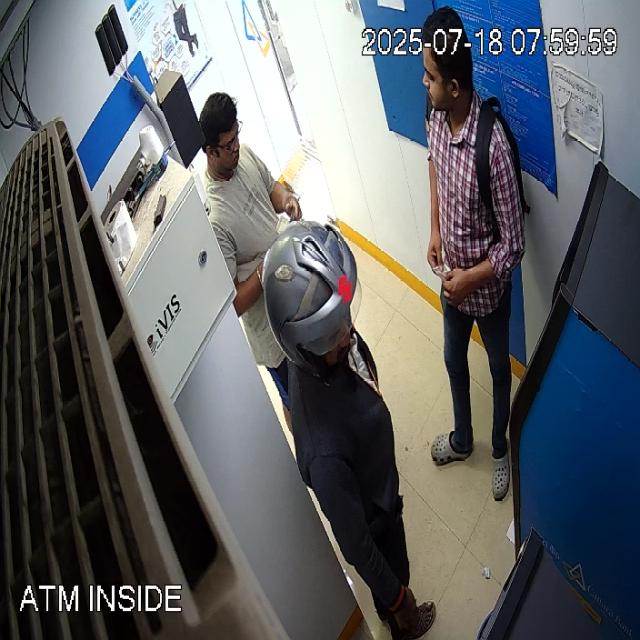helmet: (261, 220, 363, 378)
no_helmet: (422, 6, 473, 133), (199, 92, 239, 179)
